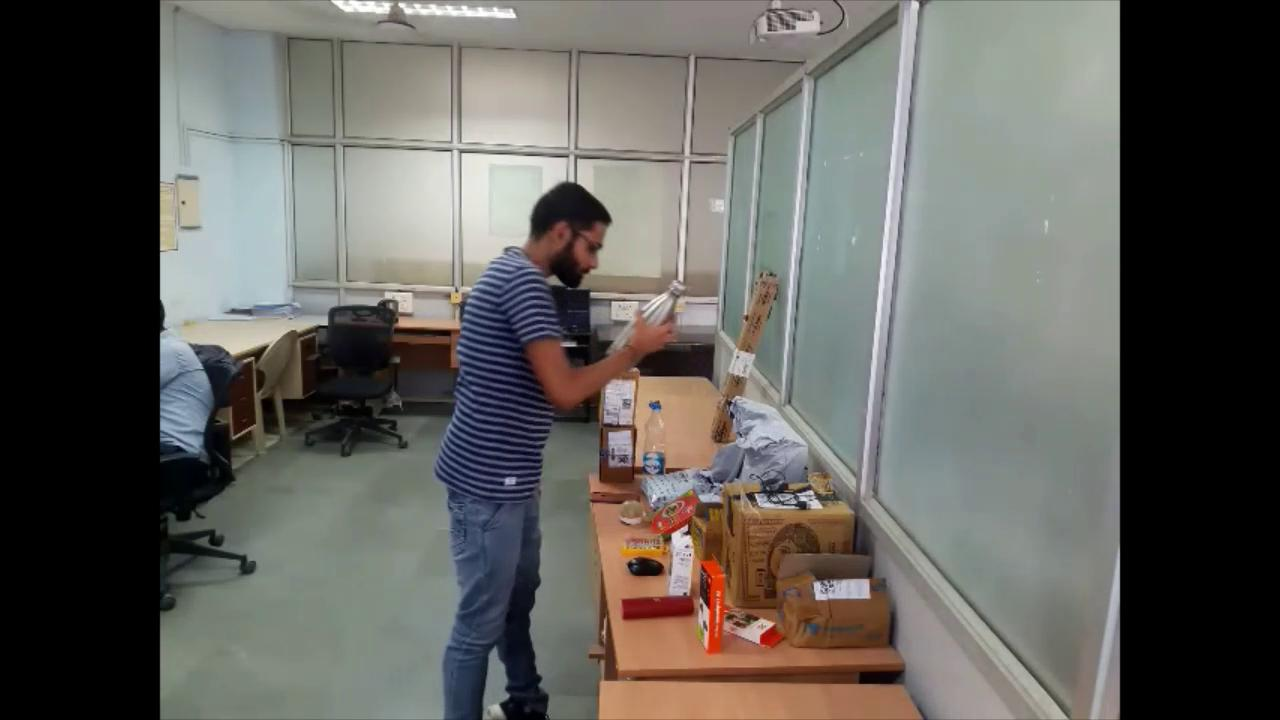Normal: (443, 178, 693, 720)
